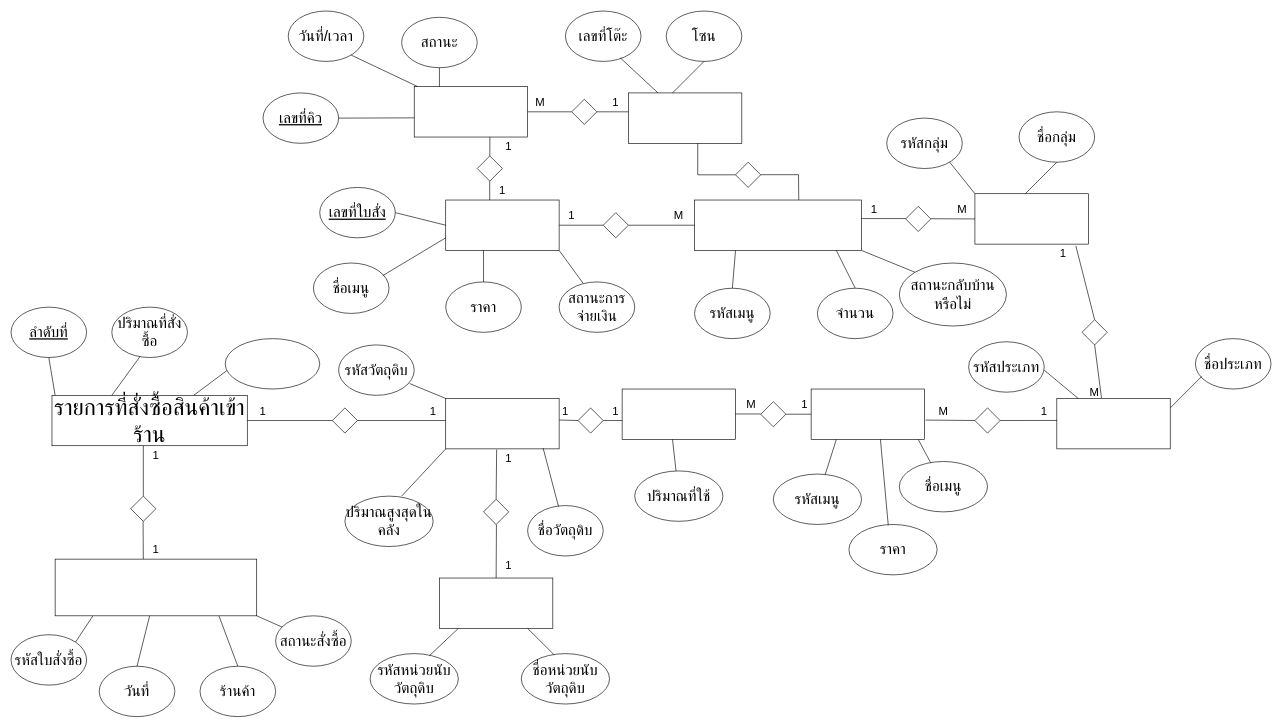
Image size: 1282x728. Some labels were removed from this diagram. Here are the shapes that lost their labels. From the top down, the centre of each, then its label:
At point (471, 111): "คิว".
At point (685, 117): "โต๊ะ".
At point (502, 224): "ใบสั่งอาหาร".
At point (778, 224): "รายการที่สั่ง".
At point (1031, 218): "กลุ่มเมนู".
At point (272, 363): "ปริมาณที่ได้รับ".
At point (502, 423): "วัตถุดิบ".
At point (678, 413): "การใช้วัตถุดิบ".
At point (867, 413): "รายการอาหาร".
At point (1113, 423): "ประเภทของเมนู".
At point (155, 587): "ใบสั่งซื้อสินค้าเข้าร้าน".
At point (496, 602): "หน่วยนับวัตถุดิบ".
